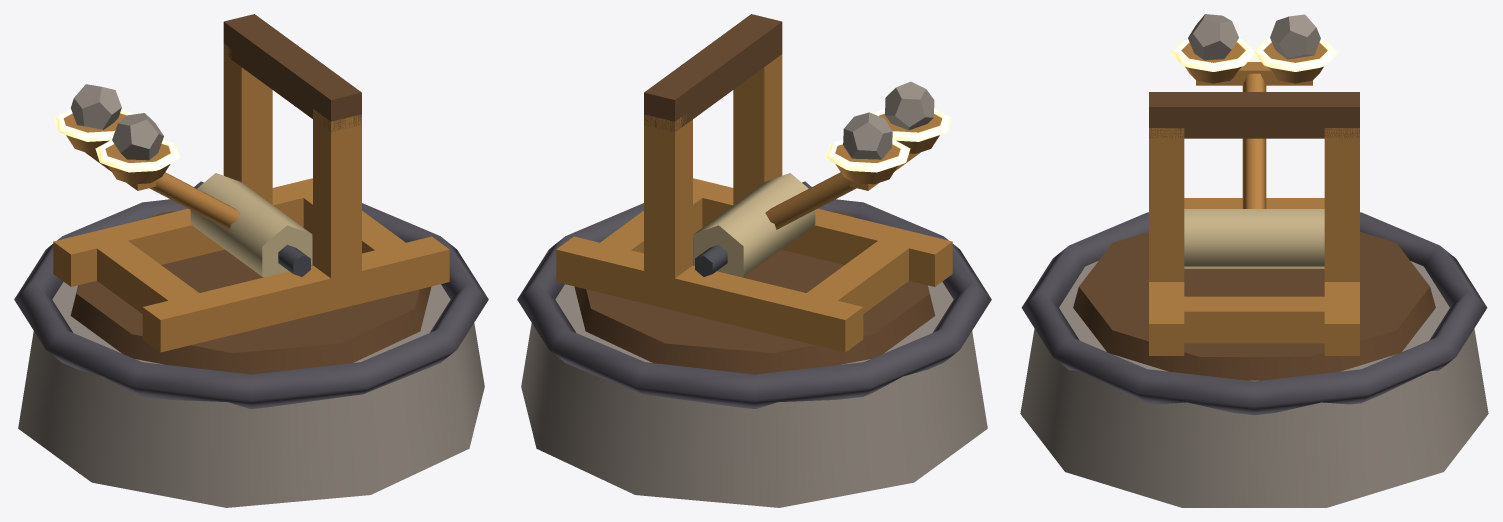
File: tower_catapult_barrage.glb
3 views of the same model, side by side, from view 1: azimuth 30°, elevation 25°; view 2: azimuth 150°, elevation 25°; view 3: azimuth 270°, elevation 25° (orthographic).
Parts seen in each view (by area): view 1: base, base_rim, turntable, rail_l, upright_l, stop_bar, rail_r, torsion_rope, upright_r, cross_w, cross_e, arm_beam (+7 smaller); view 2: base, base_rim, turntable, rail_r, upright_r, stop_bar, rail_l, torsion_rope, upright_l, cross_w, cross_e, arm_beam (+7 smaller); view 3: base, turntable, base_rim, stop_bar, torsion_rope, cross_e, upright_l, upright_r, rail_l, rail_r, arm_beam, stone_0 (+7 smaller).
Boxes of the visible parts, left/top/right/bottom form: base: left=18, top=282, right=484, bottom=507; base_rim: left=14, top=199, right=488, bottom=408; turntable: left=70, top=211, right=431, bottom=374; rail_l: left=142, top=236, right=449, bottom=352; upright_l: left=313, top=109, right=361, bottom=283; stop_bar: left=223, top=14, right=361, bottom=131; rail_r: left=53, top=178, right=312, bottom=286; torsion_rope: left=190, top=173, right=312, bottom=277; upright_r: left=223, top=43, right=272, bottom=204; cross_w: left=97, top=241, right=217, bottom=345; cross_e: left=286, top=178, right=423, bottom=295; arm_beam: left=149, top=172, right=240, bottom=229; base: left=521, top=282, right=987, bottom=507; base_rim: left=517, top=199, right=991, bottom=408; turntable: left=574, top=211, right=935, bottom=374; rail_r: left=556, top=236, right=863, bottom=352; upright_r: left=644, top=114, right=692, bottom=283; stop_bar: left=644, top=14, right=782, bottom=131; rail_l: left=693, top=178, right=952, bottom=286; torsion_rope: left=693, top=173, right=815, bottom=277; upright_l: left=733, top=54, right=782, bottom=204; cross_w: left=788, top=241, right=908, bottom=345; cross_e: left=582, top=179, right=719, bottom=295; arm_beam: left=765, top=172, right=856, bottom=229; base: left=1020, top=261, right=1488, bottom=507; turntable: left=1073, top=232, right=1435, bottom=380; base_rim: left=1021, top=212, right=1487, bottom=415; stop_bar: left=1149, top=92, right=1359, bottom=138; torsion_rope: left=1184, top=209, right=1324, bottom=268; cross_e: left=1184, top=296, right=1324, bottom=343; upright_l: left=1149, top=128, right=1184, bottom=281; upright_r: left=1324, top=128, right=1359, bottom=281; rail_l: left=1149, top=282, right=1184, bottom=355; rail_r: left=1324, top=282, right=1359, bottom=355; arm_beam: left=1242, top=73, right=1266, bottom=208; stone_0: left=1188, top=14, right=1238, bottom=60.
Size of the model in its own units: 0.398 by 0.315 by 0.4.
